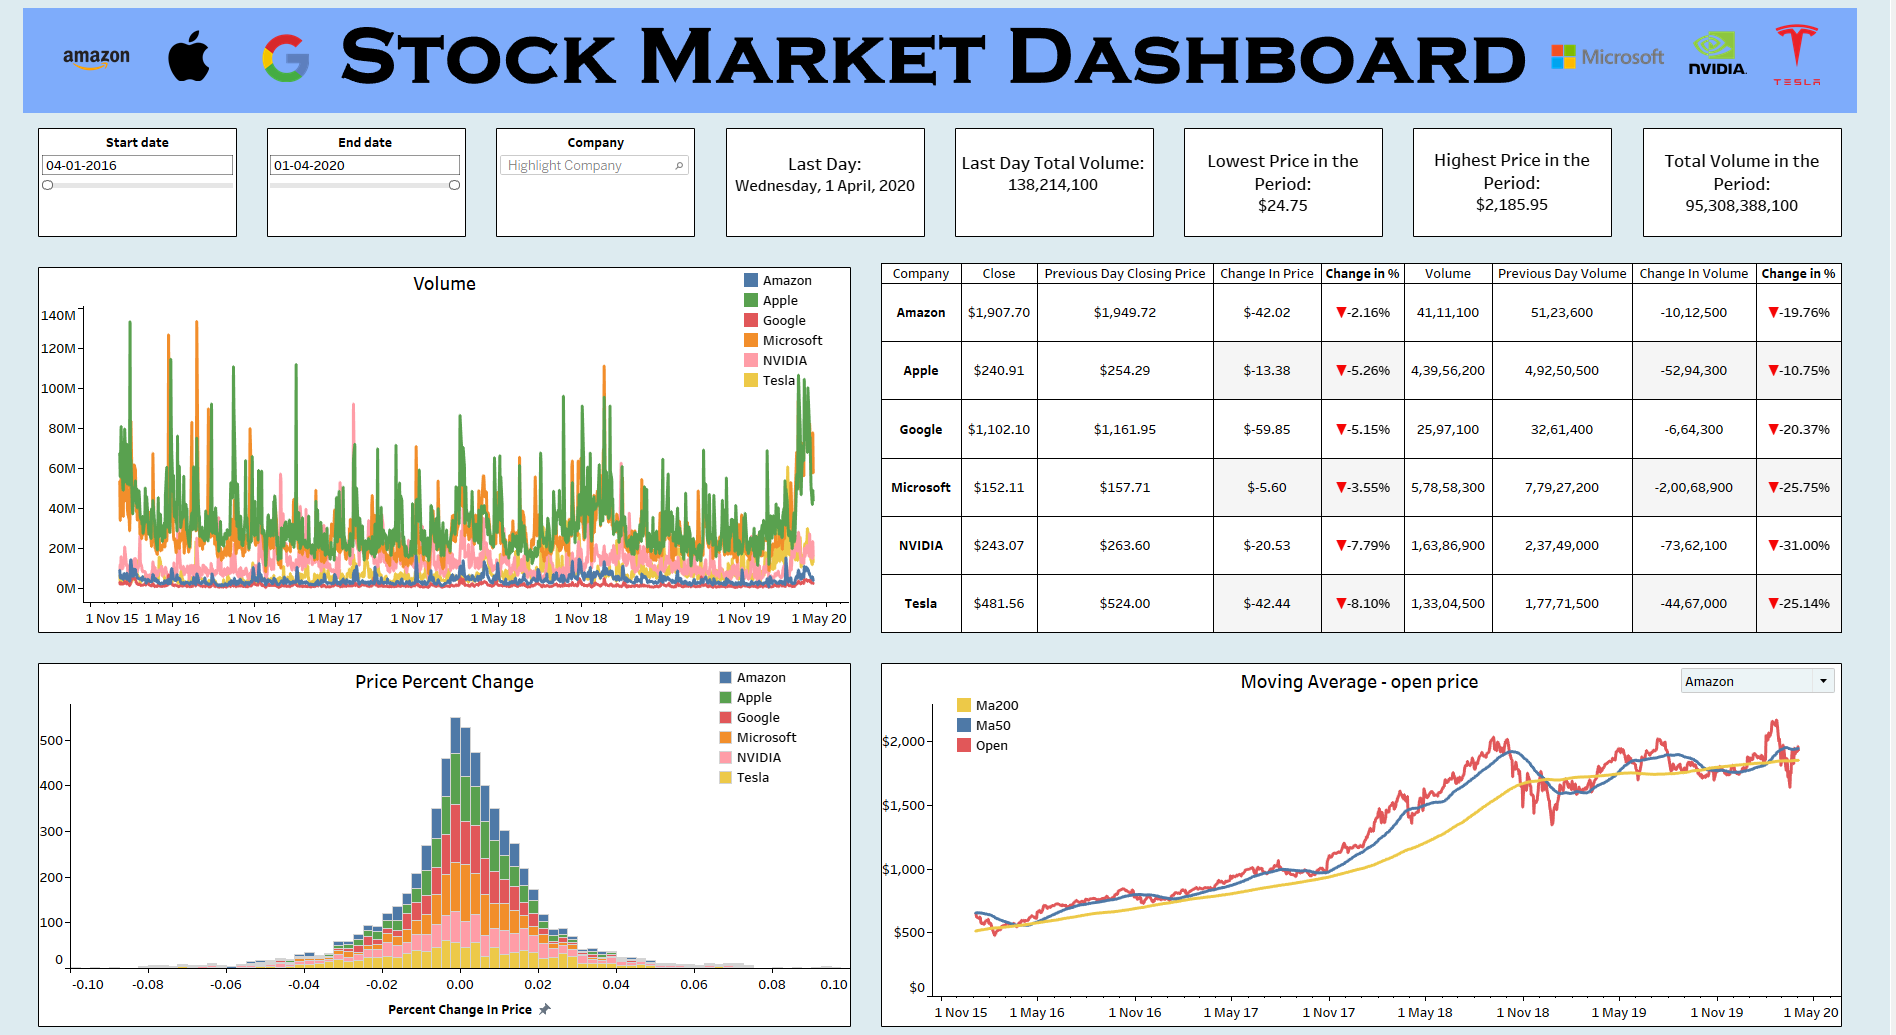

This screenshot's page, from the dashboard's own definition file:
{"tool":"tableau","page":{"name":"Dashboard 1","canvas":[1850,1050],"ordinal":0},"visuals":[{"type":"blank","box":[8,8,1834,105]},{"type":"worksheet","title":"Title","mark":"Automatic","box":[10,12,1830,90]},{"type":"image","param":"C:/Users/Susmita/Downloads/amazon-png-logo-vector-6695.png","box":[21,15,157,90]},{"type":"image","param":"C:/Users/Susmita/Downloads/Tesla logo.png","box":[1758,24,67,61]},{"type":"image","param":"C:/Users/Susmita/Downloads/microsoft-logo-png-2411.png","box":[1536,27,128,63]},{"type":"image","param":"C:/Users/Susmita/Downloads/Apple logo.png","box":[153,30,57,51]},{"type":"image","param":"C:/Users/Susmita/Downloads/Nvidia logo.png","box":[1674,31,58,50]},{"type":"image","param":"C:/Users/Susmita/Downloads/Google logo.png","box":[247,34,52,48]},{"type":"blank","box":[8,113,229.2,139]},{"type":"blank","box":[237.2,113,229.3,139]},{"type":"blank","box":[466.5,113,229.3,139]},{"type":"blank","box":[695.7,113,229.3,139]},{"type":"blank","box":[925,113,229.2,139]},{"type":"blank","box":[1154.2,113,229.3,139]},{"type":"blank","box":[1383.5,113,229.3,139]},{"type":"blank","box":[1612.7,113,229.3,139]},{"type":"worksheet","title":"Higest Price in the Period","mark":"Automatic","box":[1400,130,194,103]},{"type":"worksheet","title":"Last Day Volume","mark":"Automatic","box":[942,131,191,83]},{"type":"worksheet","title":"Lowest Price in the Period","mark":"Automatic","box":[1171,132,193,101]},{"type":"worksheet","title":"Total Volume in the Period","mark":"Automatic","box":[1630,132,194,101]},{"type":"parameter","param":"[Parameters].[Parameter 1]","box":[24,133,197,99]},{"type":"parameter","param":"[Parameters].[Parameter 2]","box":[252,133,196,98]},{"type":"highlighter","title":"Volume","param":"[federated.036ihpi0dt81gb1972yys1jrgd2n].[none:Table Name:nk]","box":[482,133,195,99]},{"type":"worksheet","title":"Last Day","mark":"Automatic","box":[713,141,193,66]},{"type":"blank","box":[8,252,843,396]},{"type":"blank","box":[851,252,991,396]},{"type":"worksheet","title":"Detailed Price Table","mark":"Automatic","rows":["Table Name","Close","previous_day_closing_price","change_in_price"],"box":[866,263,524,370]},{"type":"worksheet","title":"Detailed Volume Table","mark":"Automatic","rows":["Table Name","Volume","previous_day_volume","change_in_volume"],"box":[1389,263,438,370]},{"type":"worksheet","title":"Volume","mark":"Automatic","rows":["Volume"],"cols":["Date"],"box":[25,266,809,366]},{"type":"legend","title":"Volume","param":"[federated.036ihpi0dt81gb1972yys1jrgd2n].[none:Table Name:nk]","box":[726,270,109,121]},{"type":"blank","box":[8,648,843,394]},{"type":"blank","box":[851,648,991,394]},{"type":"worksheet","title":"Price Percent Change","mark":"Automatic","rows":["percent_change_in_price"],"cols":["Percent Change In Price (bin)"],"box":[24,664,811,361]},{"type":"worksheet","title":"Moving Average - open price ","mark":"Automatic","cols":["Date"],"box":[867,664,959,362]},{"type":"filter","title":"Moving Average - open price ","param":"[federated.036ihpi0dt81gb1972yys1jrgd2n].[none:Table Name:nk]","box":[1663,665,160,32]},{"type":"legend","title":"Price Percent Change","param":"[federated.036ihpi0dt81gb1972yys1jrgd2n].[none:Table Name:nk]","box":[700,667,111,124]},{"type":"legend","title":"Moving Average - open price ","param":"[federated.036ihpi0dt81gb1972yys1jrgd2n].[:Measure Names]","box":[939,695,107,68]}]}

Visuals, with their boxes on the page's 1850x1050 design canvas (x1, y1, x2, y2). These are canvas units, not pixel positions in the 1896x1035 screenshot, which may show the page scaled, cropped or inside an application window:
blank: (8, 8, 1842, 113)
"Title" worksheet: (10, 12, 1840, 102)
image: (21, 15, 178, 105)
image: (1758, 24, 1825, 85)
image: (1536, 27, 1664, 90)
image: (153, 30, 210, 81)
image: (1674, 31, 1732, 81)
image: (247, 34, 299, 82)
blank: (8, 113, 237, 252)
blank: (237, 113, 466, 252)
blank: (466, 113, 696, 252)
blank: (696, 113, 925, 252)
blank: (925, 113, 1154, 252)
blank: (1154, 113, 1384, 252)
blank: (1384, 113, 1613, 252)
blank: (1613, 113, 1842, 252)
"Higest Price in the Period" worksheet: (1400, 130, 1594, 233)
"Last Day Volume" worksheet: (942, 131, 1133, 214)
"Lowest Price in the Period" worksheet: (1171, 132, 1364, 233)
"Total Volume in the Period" worksheet: (1630, 132, 1824, 233)
parameter: (24, 133, 221, 232)
parameter: (252, 133, 448, 231)
"Volume" highlighter: (482, 133, 677, 232)
"Last Day" worksheet: (713, 141, 906, 207)
blank: (8, 252, 851, 648)
blank: (851, 252, 1842, 648)
"Detailed Price Table" worksheet: (866, 263, 1390, 633)
"Detailed Volume Table" worksheet: (1389, 263, 1827, 633)
"Volume" worksheet: (25, 266, 834, 632)
"Volume" legend: (726, 270, 835, 391)
blank: (8, 648, 851, 1042)
blank: (851, 648, 1842, 1042)
"Price Percent Change" worksheet: (24, 664, 835, 1025)
"Moving Average - open price " worksheet: (867, 664, 1826, 1026)
"Moving Average - open price " filter: (1663, 665, 1823, 697)
"Price Percent Change" legend: (700, 667, 811, 791)
"Moving Average - open price " legend: (939, 695, 1046, 763)
